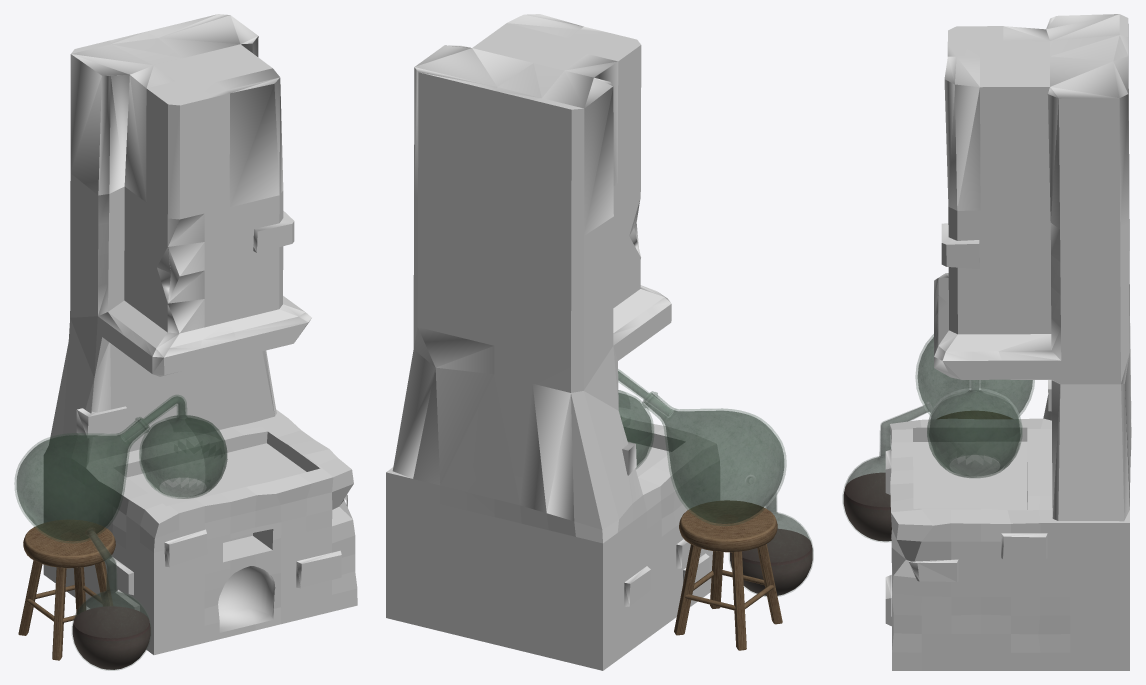
File: still_01.glb
The picture shows the model from 3 angles, left to right: view 1: azimuth 30°, elevation 25°; view 2: azimuth 150°, elevation 25°; view 3: azimuth 270°, elevation 25°; orthographic projection. The views are drawn at different scales.
Visible parts, largest first — view 1: forge.003 -convcol, SM_WineBottle_05.001, SM_Stool_01.001, SM_Flask_02.001, SM_Flask_01.002; view 2: forge.003 -convcol, SM_WineBottle_05.001, SM_Stool_01.001, SM_Flask_01.002, SM_Flask_02.001; view 3: forge.003 -convcol, SM_Flask_02.001, SM_Flask_01.002, SM_WineBottle_05.001, SM_Stool_01.001.
Boxes of the visible parts, x1,y1,x2,y2 form: forge.003 -convcol: (43, 14, 357, 654); SM_WineBottle_05.001: (14, 417, 149, 543); SM_Stool_01.001: (18, 520, 115, 660); SM_Flask_02.001: (121, 395, 227, 498); SM_Flask_01.002: (72, 528, 151, 670); forge.003 -convcol: (386, 14, 719, 670); SM_WineBottle_05.001: (642, 391, 786, 525); SM_Stool_01.001: (674, 500, 782, 650); SM_Flask_01.002: (729, 475, 813, 596); SM_Flask_02.001: (618, 369, 672, 468); forge.003 -convcol: (885, 14, 1131, 670); SM_Flask_02.001: (927, 380, 1022, 477); SM_Flask_01.002: (842, 402, 931, 542); SM_WineBottle_05.001: (915, 334, 1034, 416); SM_Stool_01.001: (938, 411, 1011, 418).
Bounding box in the file's own units: 1.89 × 3.12 × 1.45.
Materials: 5 (5 with a texture image).
